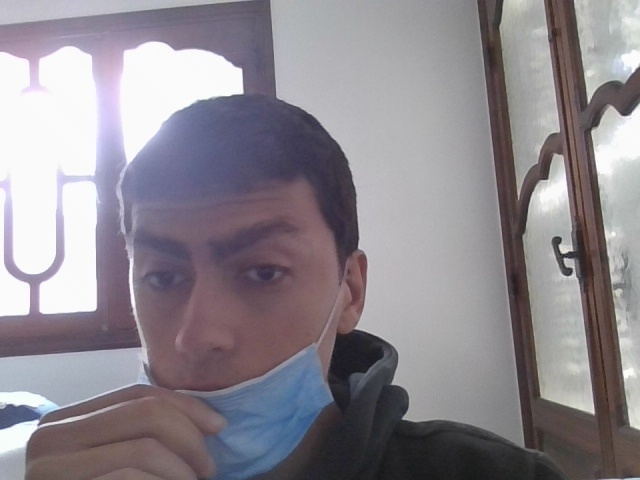mask_weared_incorrect: (123, 160, 343, 466)
